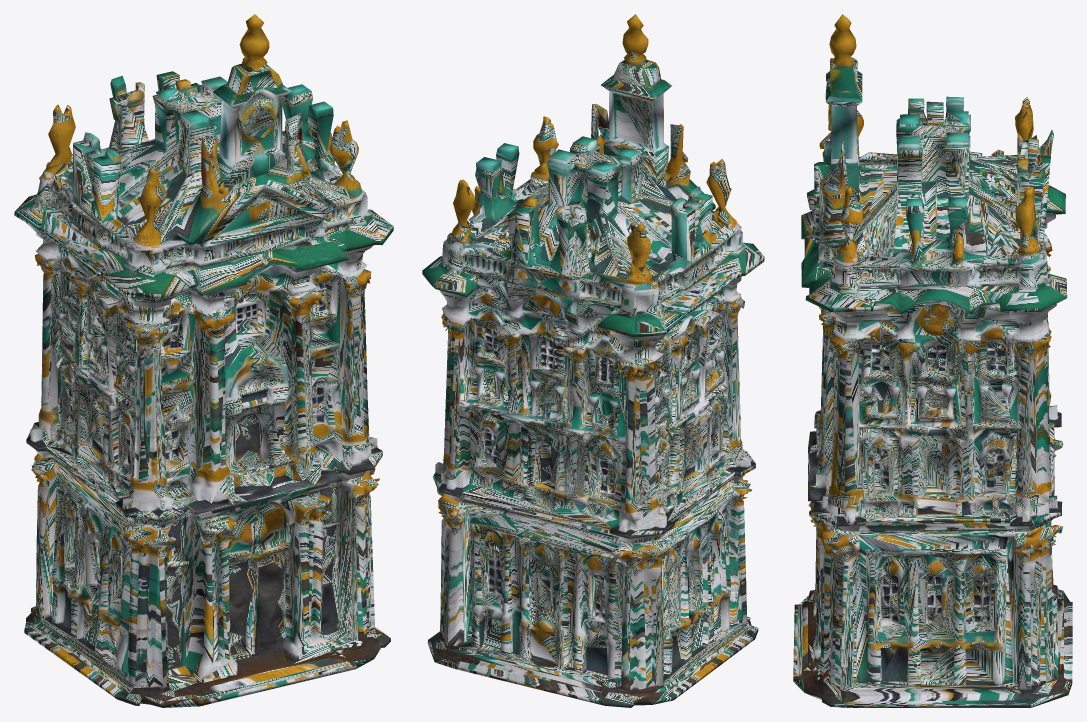
Rendered from St_Petersbourg_chess.glb.
3 views of the same model, side by side, from view 1: azimuth 30°, elevation 25°; view 2: azimuth 150°, elevation 25°; view 3: azimuth 270°, elevation 25° (orthographic). The views are drawn at different scales.
Visible parts, largest first — view 1: St_Petersbourg_chess; view 2: St_Petersbourg_chess; view 3: St_Petersbourg_chess.
Boxes of the visible parts, x1=… form: St_Petersbourg_chess: x1=14, y1=14, x2=393, y2=707; St_Petersbourg_chess: x1=422, y1=14, x2=764, y2=707; St_Petersbourg_chess: x1=793, y1=14, x2=1072, y2=707.
Bounding box in the file's own units: 0.8216 × 1.9 × 0.7622.
Materials: 1 (1 with a texture image).
